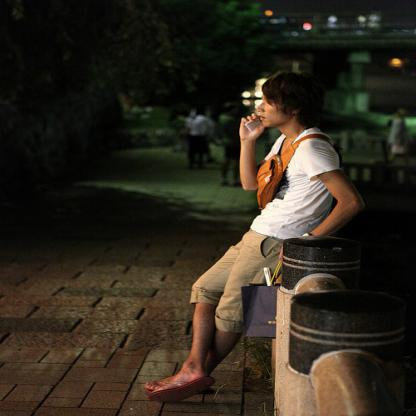backpack: (252, 131, 335, 210)
handbag: (256, 134, 347, 212), (239, 281, 279, 339)
